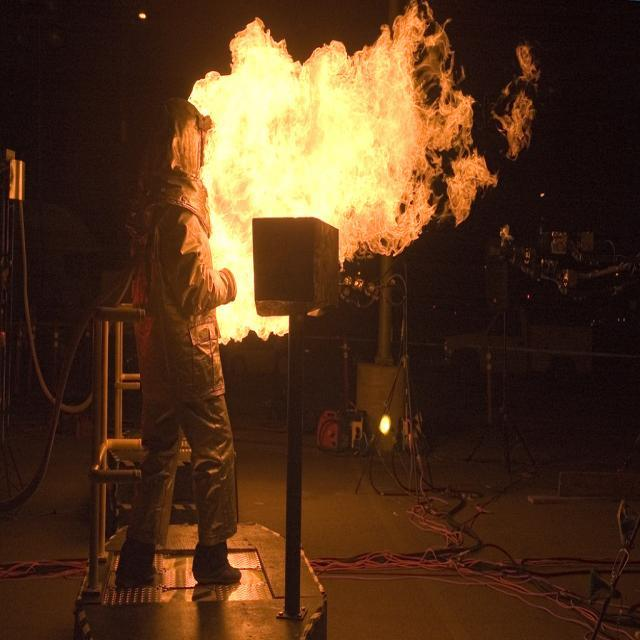Fire: (212, 51, 416, 210)
